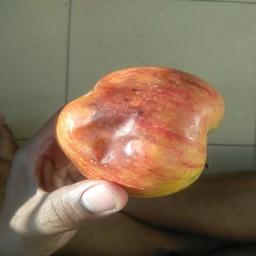Bad_apple: (58, 67, 218, 192)
